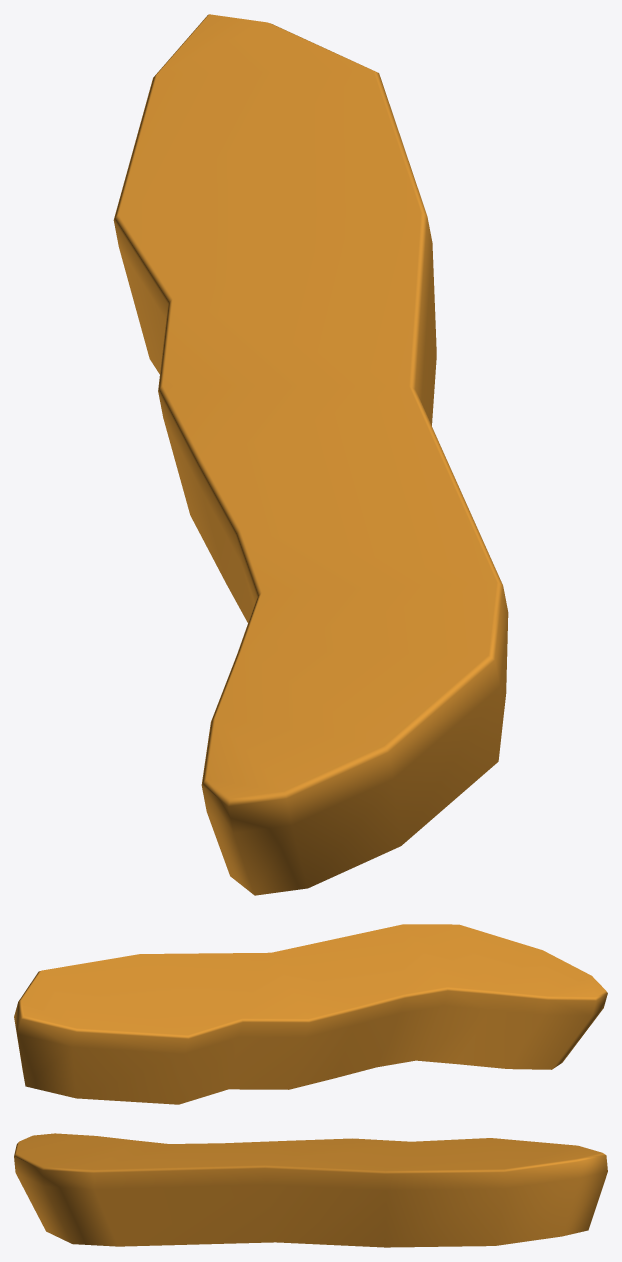
Rendered from SM_Platform_01.fbx.
3 views of the same model, one above another, from view 1: azimuth 30°, elevation 25°; view 2: azimuth 150°, elevation 25°; view 3: azimuth 270°, elevation 25° (orthographic). The views are drawn at different scales.
Visible parts, largest first — view 1: New_Game_Object_4; view 2: New_Game_Object_4; view 3: New_Game_Object_4.
Part boxes in pixels (x1,y1,x2,y2): New_Game_Object_4: [113, 14, 508, 895]; New_Game_Object_4: [14, 924, 607, 1104]; New_Game_Object_4: [14, 1133, 607, 1247].
Bounding box in the file's own units: 1253 × 698 × 2039.
